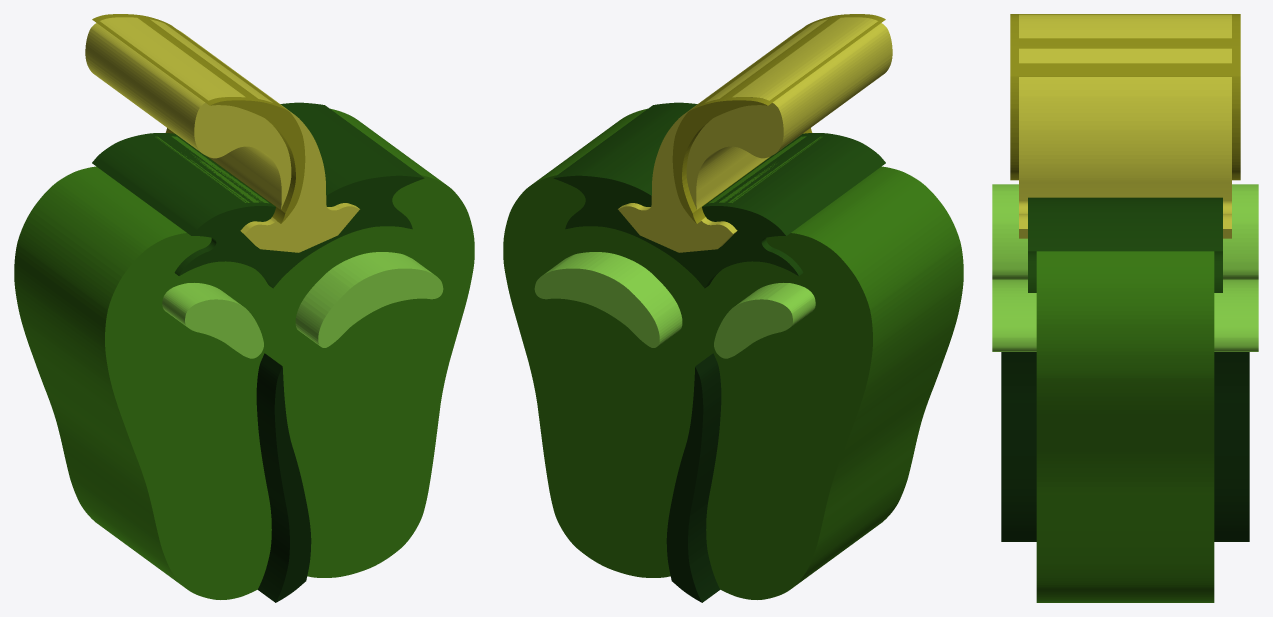
Rendered from U+1FAD1.obj.
The picture shows the model from 3 angles, left to right: view 1: azimuth 30°, elevation 25°; view 2: azimuth 150°, elevation 25°; view 3: azimuth 270°, elevation 25°; orthographic projection. The views are drawn at different scales.
Parts seen in each view (by area): view 1: U+1FAD1_layer00_obj00, U+1FAD1_layer02_obj00, U+1FAD1_layer01_obj00, U+1FAD1_layer04_obj00, U+1FAD1_layer05_obj01, U+1FAD1_layer03_obj00, U+1FAD1_layer05_obj00; view 2: U+1FAD1_layer00_obj00, U+1FAD1_layer02_obj00, U+1FAD1_layer01_obj00, U+1FAD1_layer04_obj00, U+1FAD1_layer05_obj01, U+1FAD1_layer03_obj00, U+1FAD1_layer05_obj00; view 3: U+1FAD1_layer00_obj00, U+1FAD1_layer02_obj00, U+1FAD1_layer04_obj00, U+1FAD1_layer01_obj00, U+1FAD1_layer03_obj00, U+1FAD1_layer05_obj01, U+1FAD1_layer05_obj00.
Boxes of the visible parts, x1,y1,x2,y2 form: U+1FAD1_layer00_obj00: (14,108,474,599); U+1FAD1_layer02_obj00: (85,17,359,252); U+1FAD1_layer01_obj00: (92,102,424,288); U+1FAD1_layer04_obj00: (256,353,311,602); U+1FAD1_layer05_obj01: (295,252,443,347); U+1FAD1_layer03_obj00: (92,14,305,223); U+1FAD1_layer05_obj00: (162,283,263,358); U+1FAD1_layer00_obj00: (503,108,963,599); U+1FAD1_layer02_obj00: (618,17,892,252); U+1FAD1_layer01_obj00: (553,102,885,288); U+1FAD1_layer04_obj00: (666,353,721,602); U+1FAD1_layer05_obj01: (534,252,682,347); U+1FAD1_layer03_obj00: (672,14,885,223); U+1FAD1_layer05_obj00: (714,283,815,358); U+1FAD1_layer00_obj00: (1036,251,1214,602); U+1FAD1_layer02_obj00: (1019,14,1231,238); U+1FAD1_layer04_obj00: (1001,352,1249,541); U+1FAD1_layer01_obj00: (1028,197,1222,292); U+1FAD1_layer03_obj00: (1010,14,1240,180); U+1FAD1_layer05_obj01: (992,279,1258,351); U+1FAD1_layer05_obj00: (992,184,1258,279).
Bounding box in the file's own units: 0.2352 × 0.315 × 0.15.
